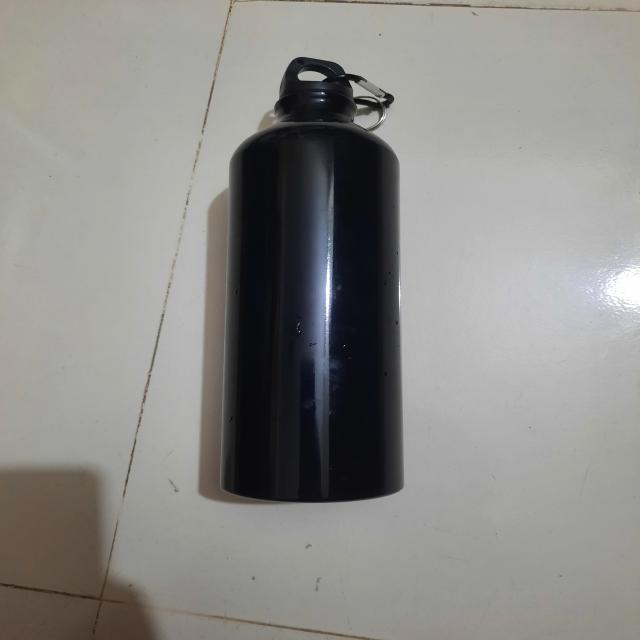can: (188, 45, 442, 525)
